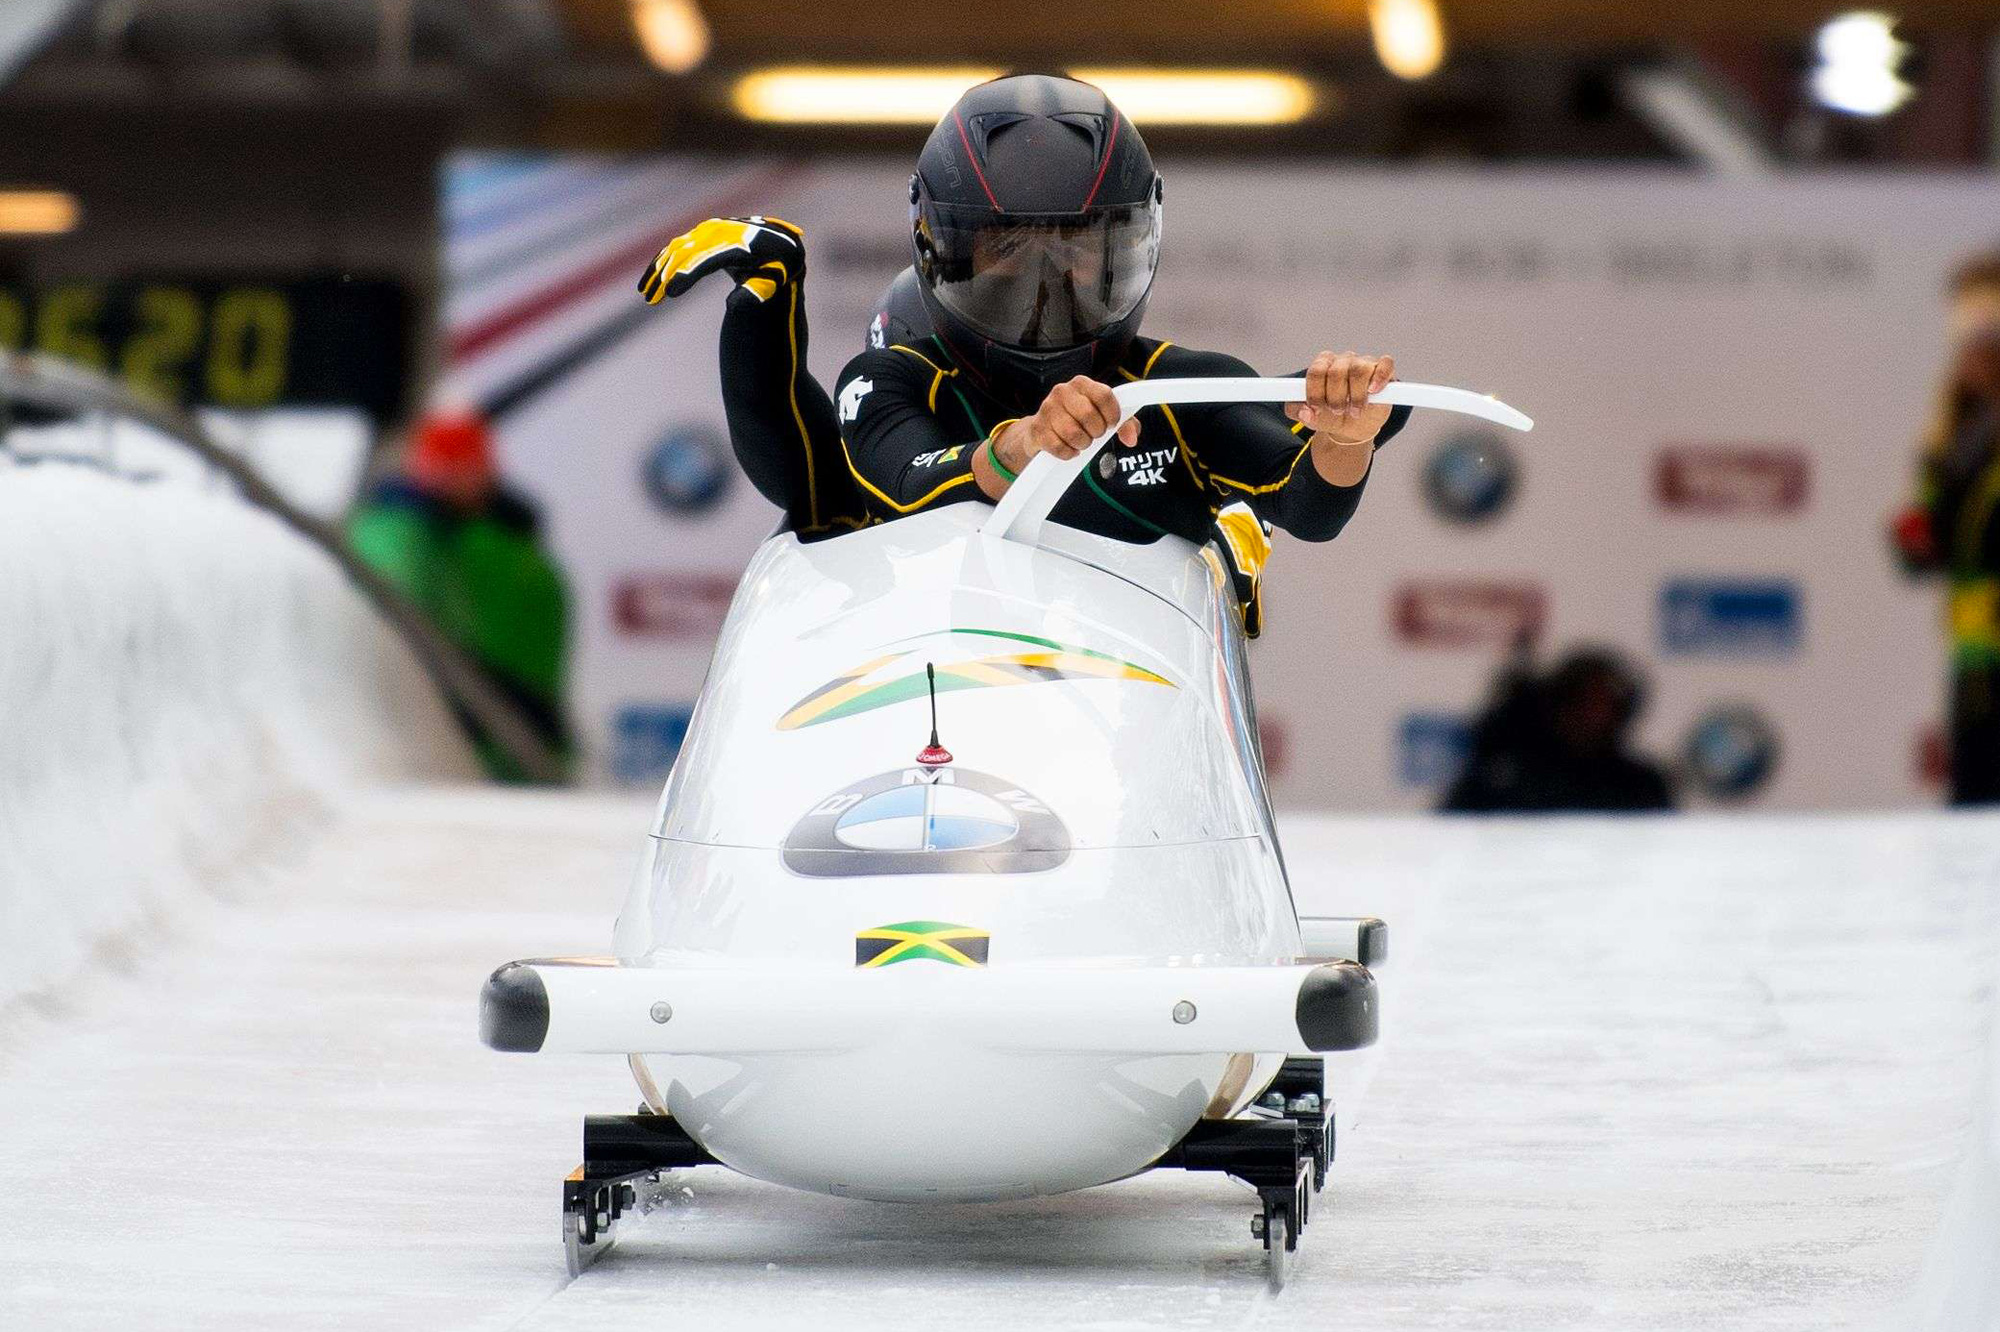Bobsleigh: (481, 497, 1386, 1276)
